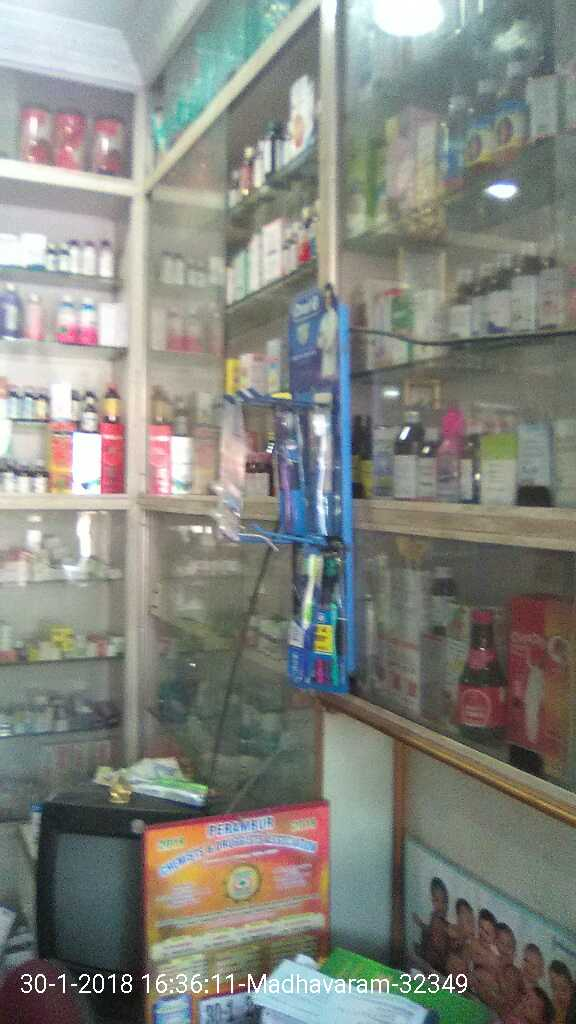oralb: (259, 406, 344, 532), (280, 544, 352, 671)
